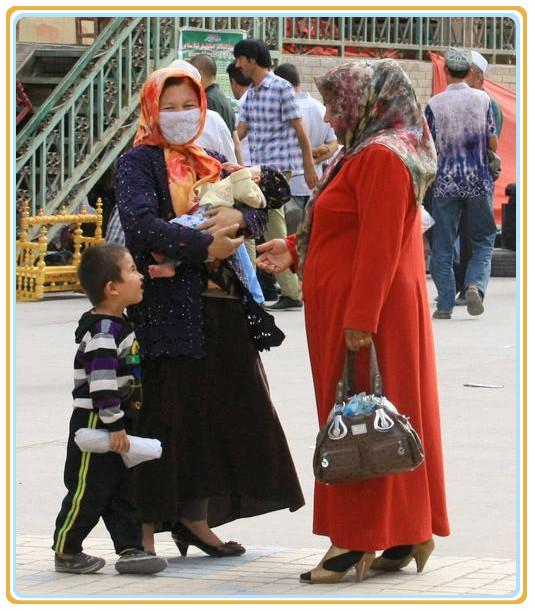NONE: (112, 259, 148, 307), (235, 53, 260, 79)
OK: (157, 96, 205, 144)
